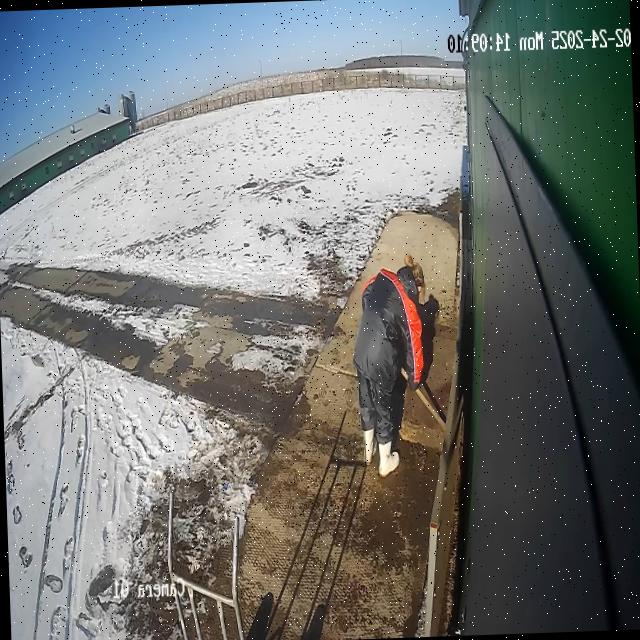Red uniform: (348, 254, 434, 480)
